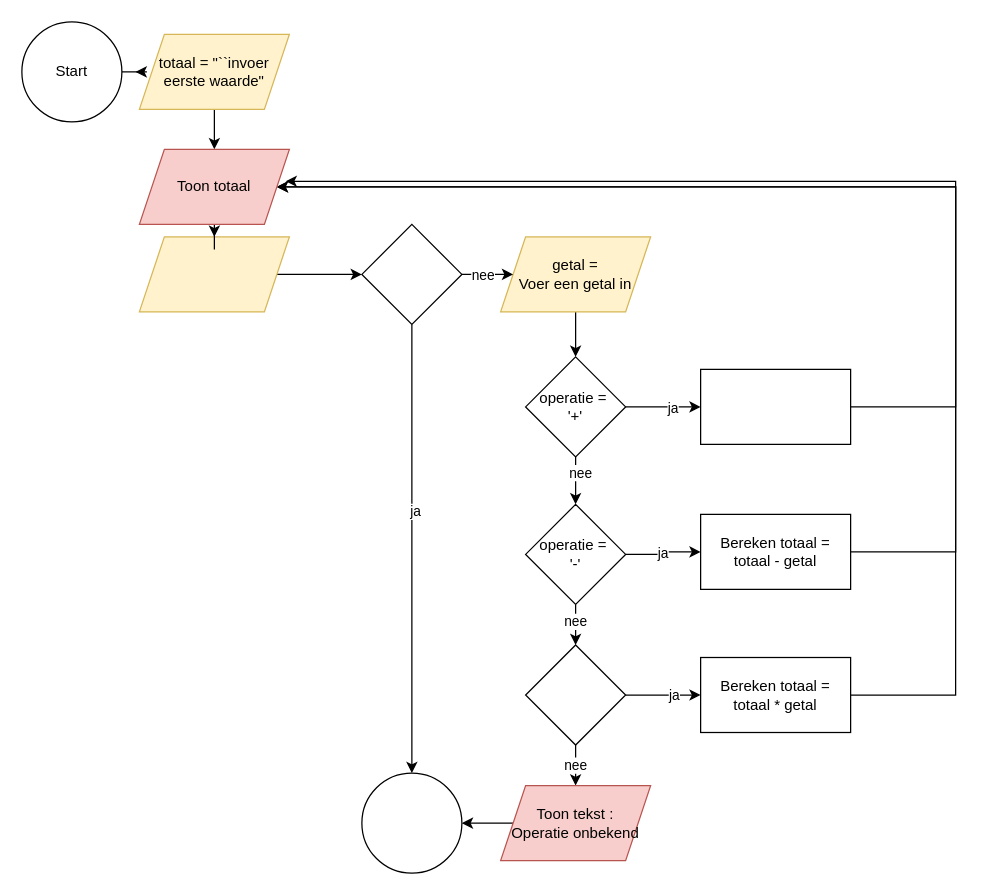
Image size: 988x895. Some labels were removed from this diagram. Each missing label, with the centre of its shape:
Bereken totaal = totaal + getal: [775,406]
Einde: [411,822]
operatie = '*': [575,694]
operatie = '=': [411,273]
Voer operatie in : + - * of =: [213,274]
